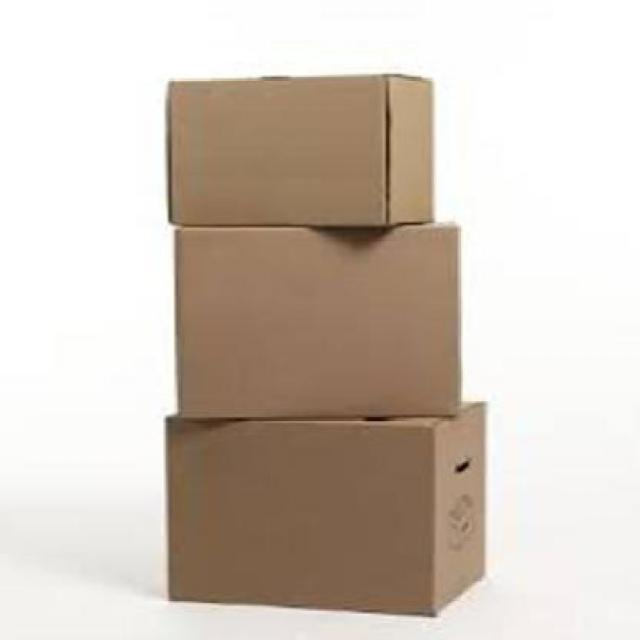normal: (158, 395, 494, 620), (169, 213, 466, 424), (160, 68, 440, 234)
